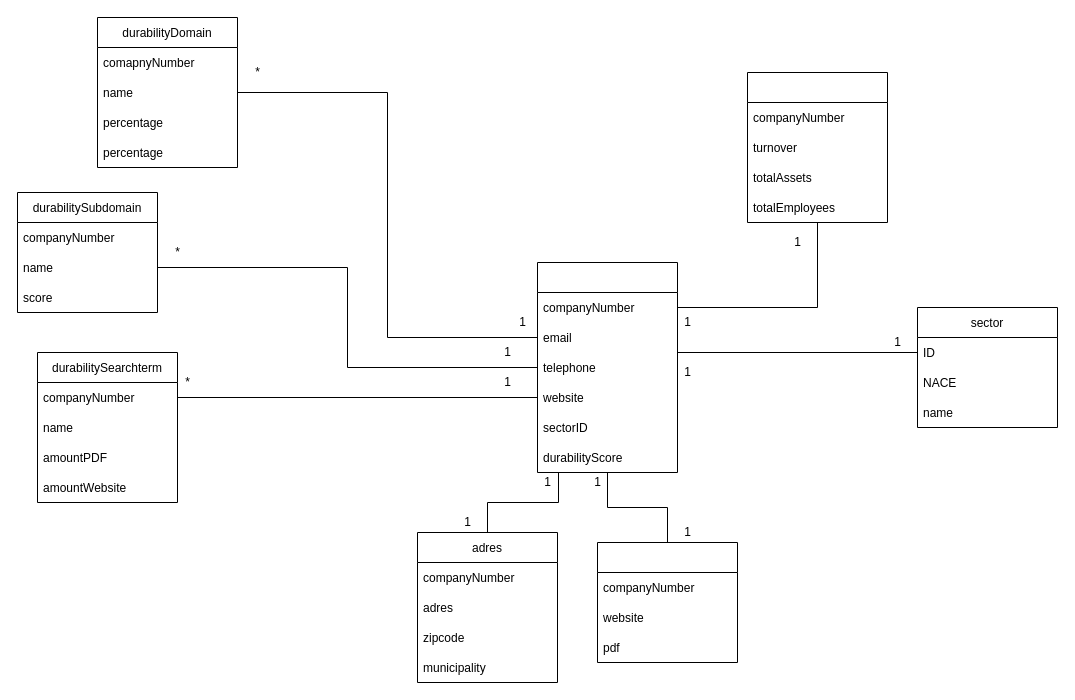
Some shapes in this 1075 by 700 pixel diagram are drawn without their labels. The box of each missing label's shape, as (x1, y1, x2, y2) in pixels:
kmo: (536, 262, 678, 472)
kmoInfo: (746, 72, 888, 222)
rawData: (596, 542, 738, 662)
